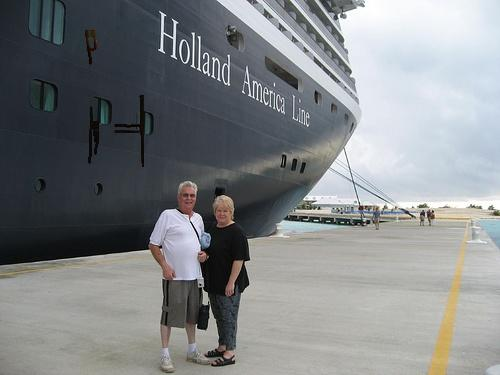tampered: (86, 30, 144, 167)
